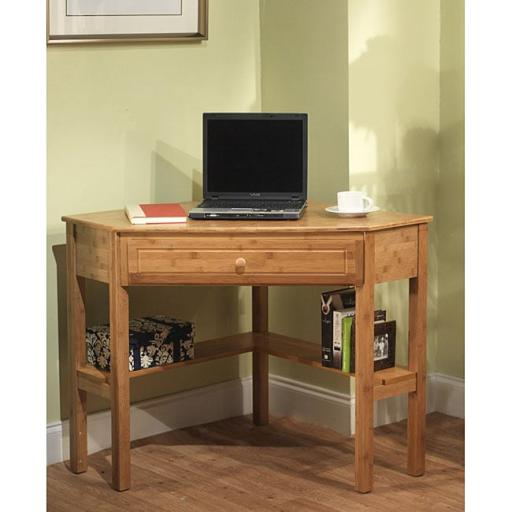desk: (61, 201, 434, 494)
wall: (45, 0, 464, 466)
